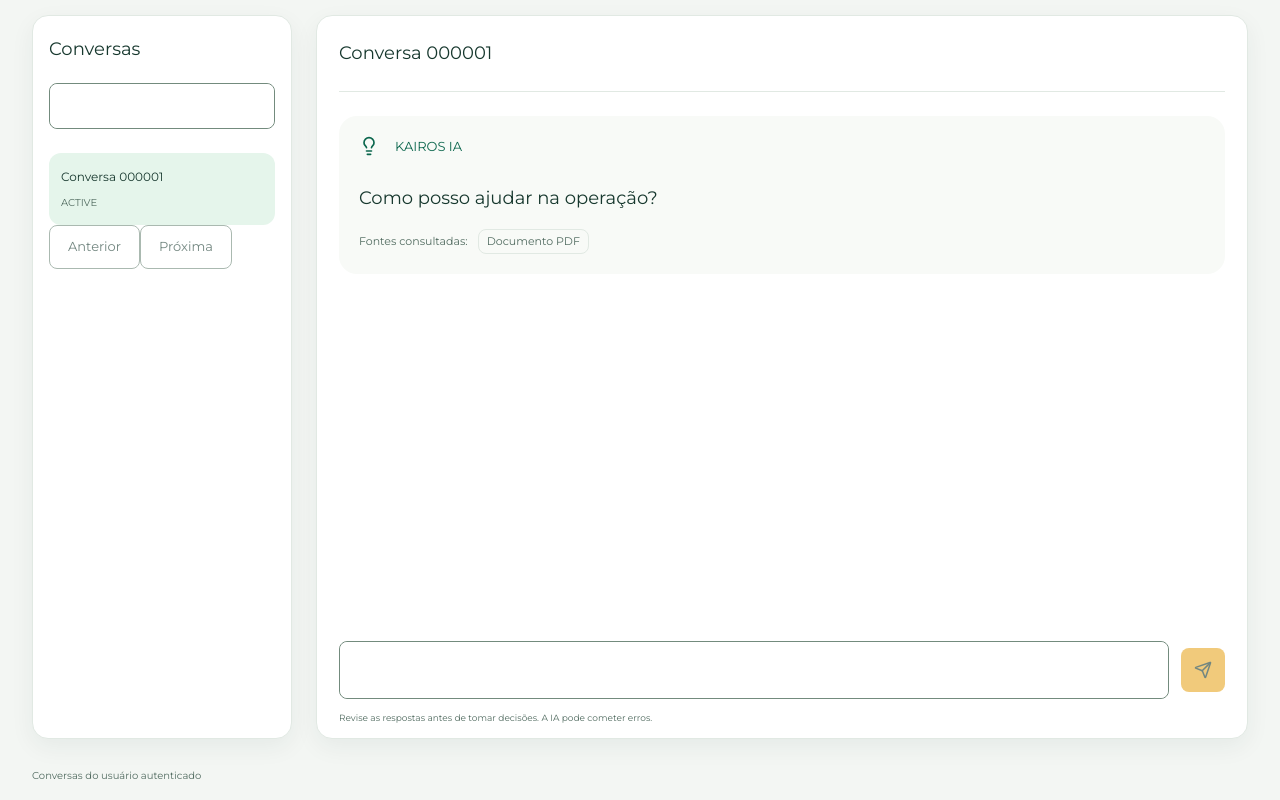
it: sends only question and conversation ID with cookies and CSRF, then reloads persisted history
The image size is (1280, 800).
(page scrolled)
Check: the element named "Mensagens da conversa" is shown, box [339, 116, 1225, 282]
Type "Como está a operação?" into the field named "Mensagem para KAIROS IA". click: [754, 670]
box: [340, 642, 1168, 698]
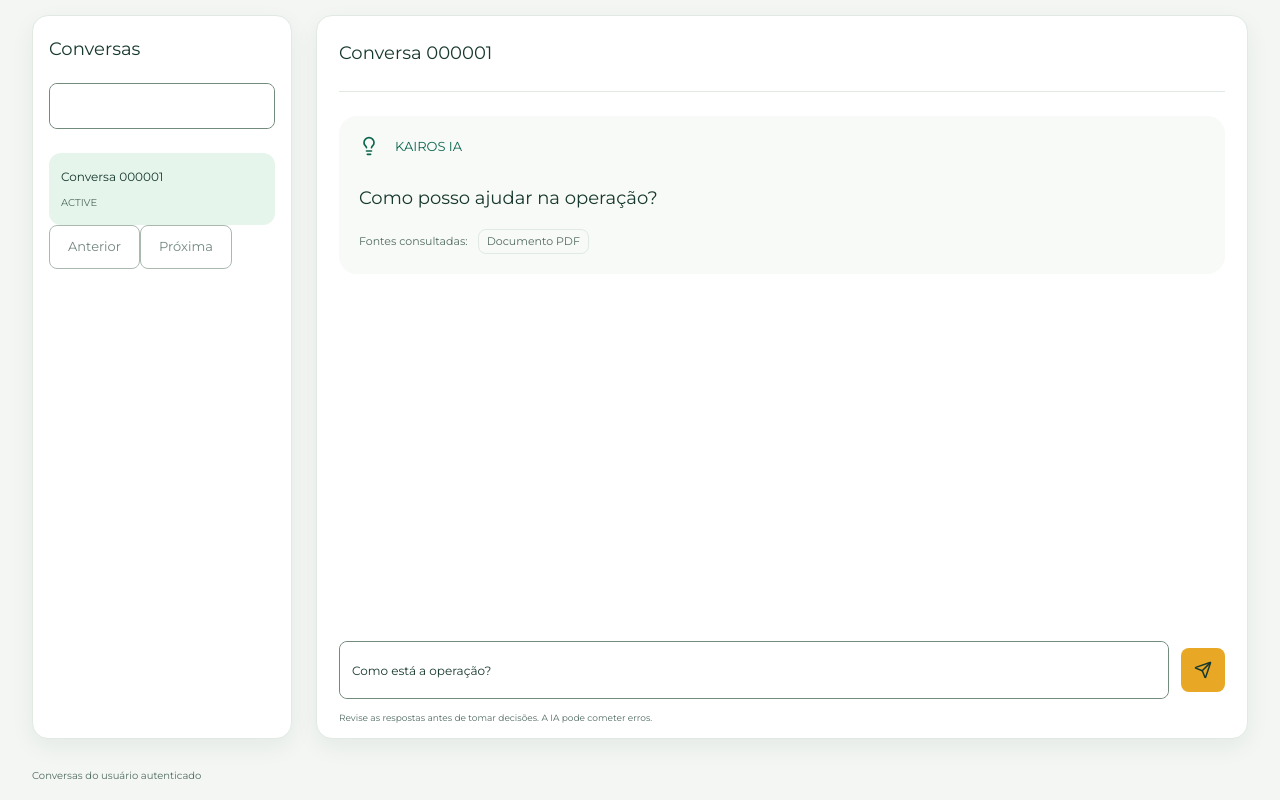
Click the button named "Enviar mensagem". click: [1203, 670]
box: [1181, 648, 1225, 692]
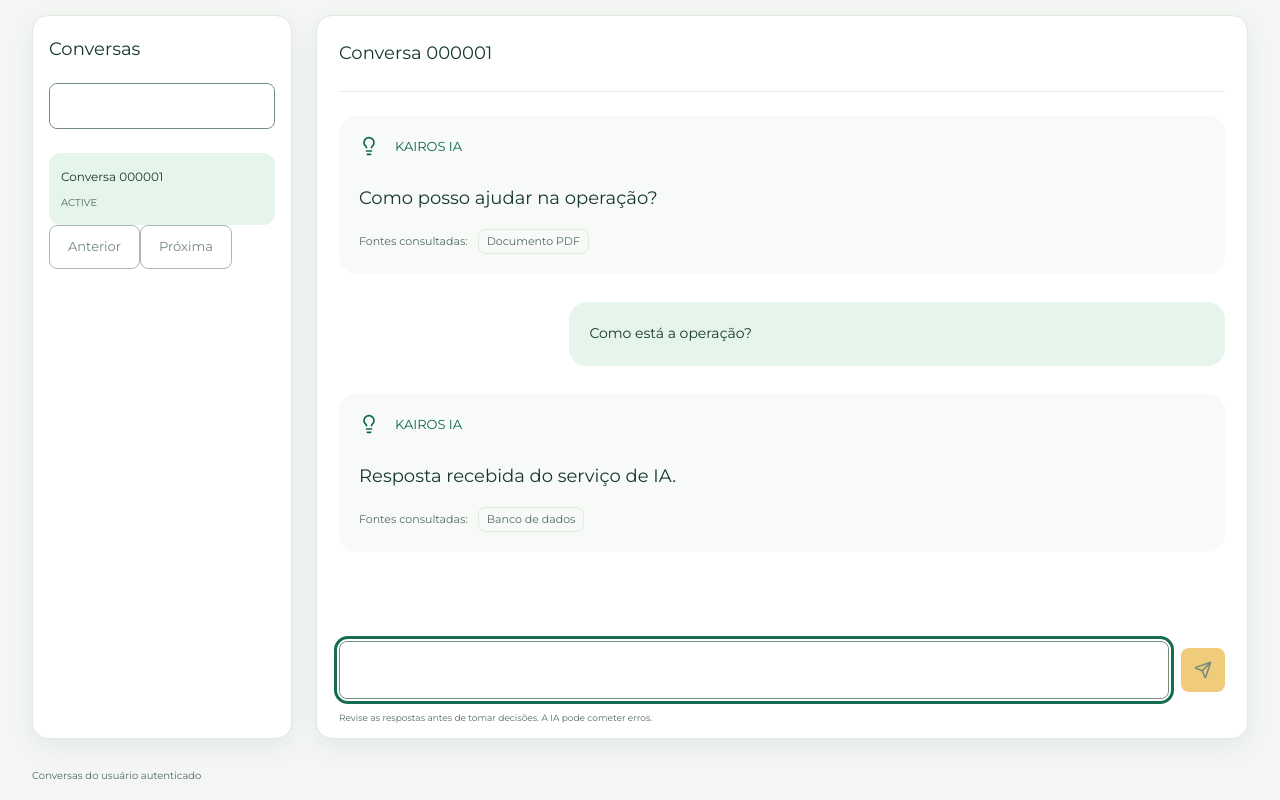
Check: the text "Resposta recebida do serviço de IA." is shown, box [359, 465, 676, 487]
